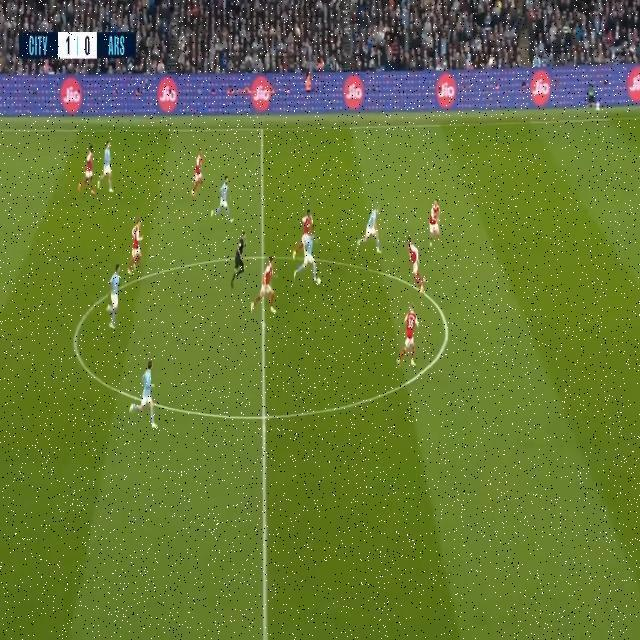ball: (313, 276, 327, 295)
player: (114, 334, 174, 448), (117, 210, 151, 294), (348, 195, 387, 261), (100, 242, 129, 328), (398, 300, 427, 376), (254, 248, 275, 334), (402, 224, 427, 288), (178, 147, 206, 202), (98, 145, 128, 196), (213, 173, 240, 227), (292, 229, 316, 279), (82, 126, 98, 200), (297, 204, 317, 242), (427, 200, 441, 251)
referee: (227, 224, 252, 297)
